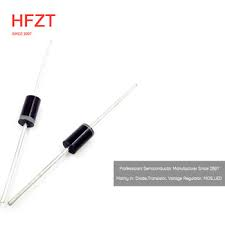diode: (46, 112, 106, 169), (8, 88, 53, 136)
